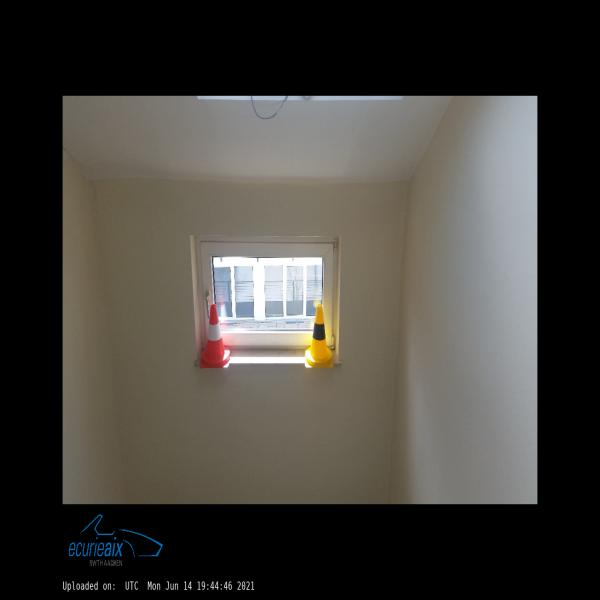orange_cone: (200, 305, 231, 368)
yellow_cone: (305, 305, 333, 368)
